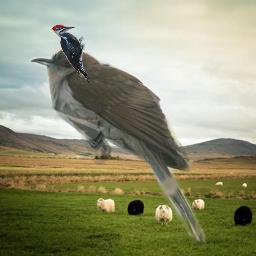Cuckoo: (31, 49, 206, 248)
Woodpecker: (51, 24, 89, 83)
